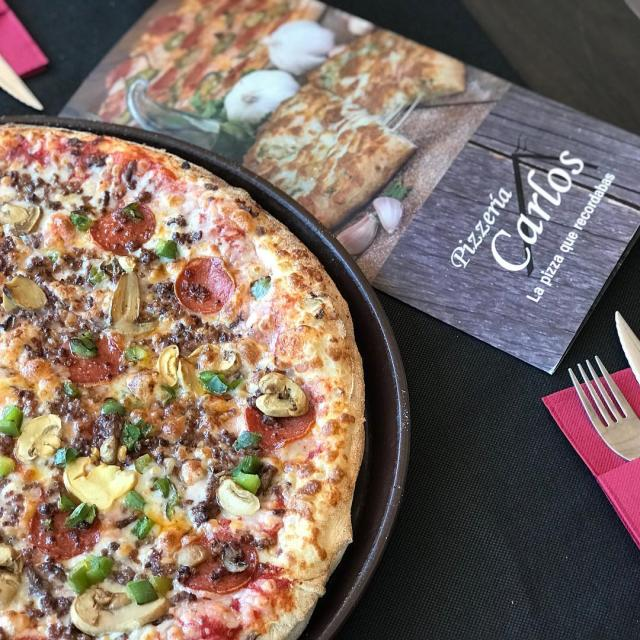mushrooms: (71, 581, 169, 638), (87, 272, 159, 334), (64, 457, 138, 511), (14, 412, 61, 463), (256, 374, 310, 418), (215, 478, 264, 516), (4, 276, 50, 312), (0, 200, 43, 236), (190, 347, 242, 376), (0, 544, 22, 609), (158, 343, 184, 388), (177, 544, 210, 566), (223, 560, 250, 572)
pepperoni: (179, 535, 260, 596), (57, 331, 127, 388), (88, 202, 159, 258), (31, 505, 102, 560), (247, 401, 320, 449), (175, 258, 237, 314)
pizza: (0, 125, 366, 640)
